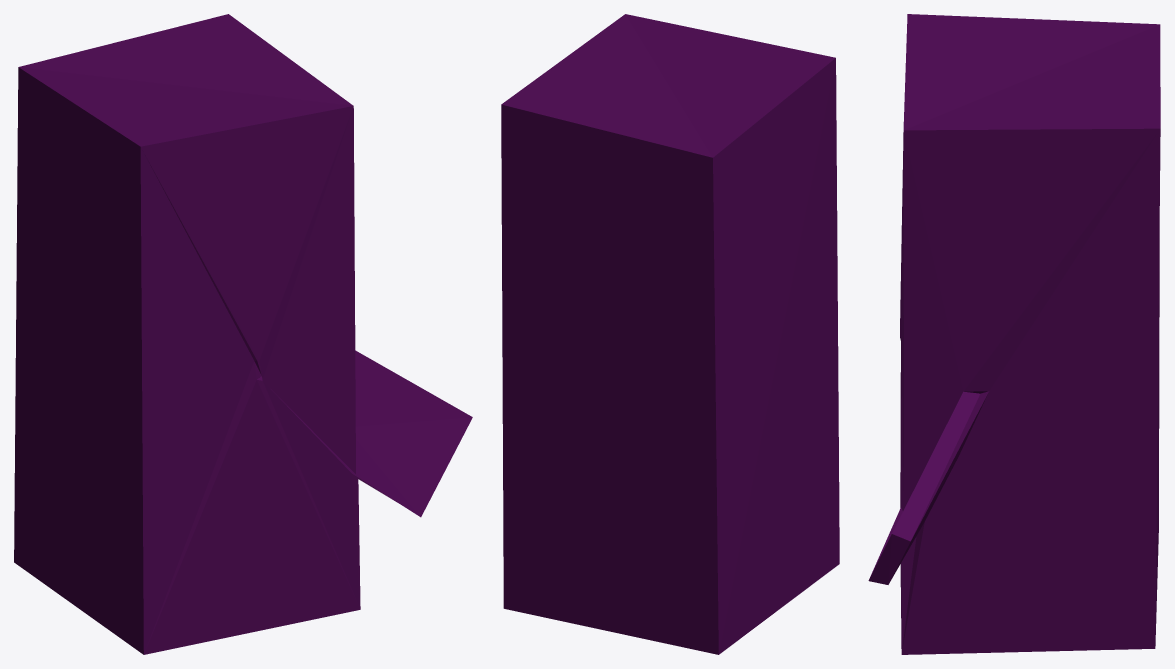
The picture shows the model from 3 angles, left to right: view 1: azimuth 30°, elevation 25°; view 2: azimuth 150°, elevation 25°; view 3: azimuth 270°, elevation 25°; orthographic projection. The views are drawn at different scales.
Parts seen in each view (by area): view 1: 789_Cube.3179; view 2: 789_Cube.3179; view 3: 789_Cube.3179.
Part boxes in pixels (<box>): 789_Cube.3179: <box>14,14,472,654</box>; 789_Cube.3179: <box>501,14,839,654</box>; 789_Cube.3179: <box>868,14,1160,654</box>.
Size of the model in its own units: 8.29 by 12.26 by 6.11.
